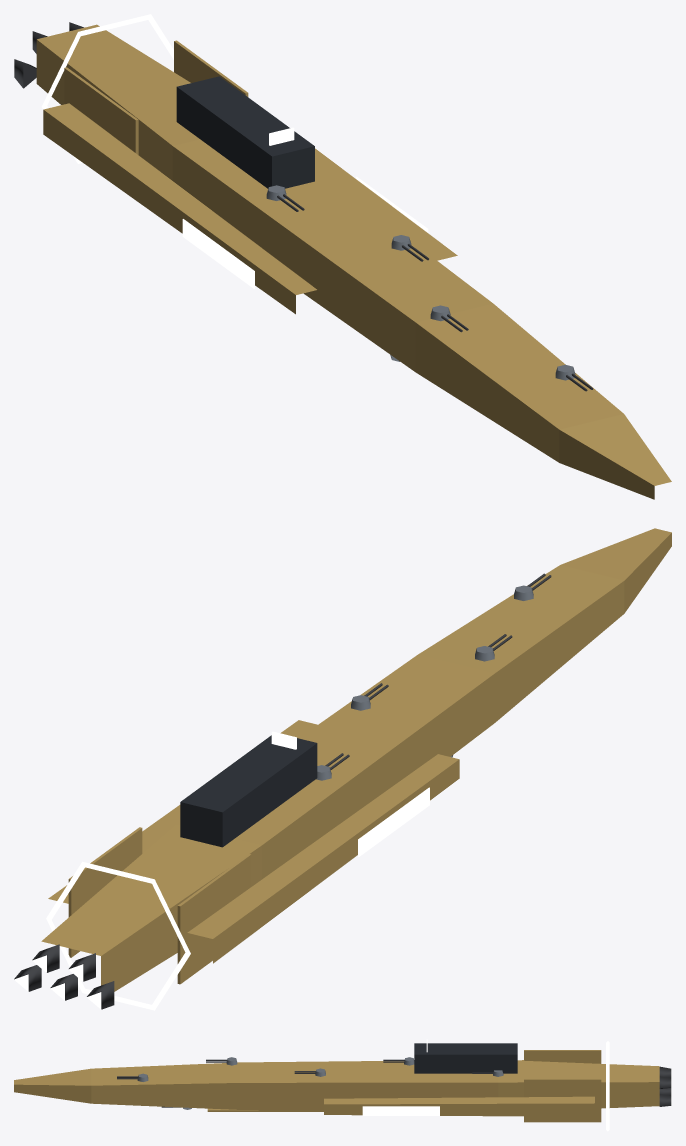
File: space_ship_cruiser_mk7_lod2.glb
3 renders of one model, top to bottom at view 1: azimuth 30°, elevation 25°; view 2: azimuth 150°, elevation 25°; view 3: azimuth 270°, elevation 25°, orthographic. The views are drawn at different scales.
Parts seen in each view (by area): view 1: body, hangar_r; view 2: body, hangar_r; view 3: body, hangar_l, turret_6, turret_0, turret_2.
Part boxes in pixels (x1,y1,x2,y2): body: [36, 14, 671, 499]; hangar_r: [182, 219, 254, 288]; body: [41, 528, 671, 1010]; hangar_r: [358, 787, 429, 856]; body: [14, 1039, 659, 1131]; hangar_l: [362, 1106, 439, 1115]; turret_6: [383, 1057, 414, 1065]; turret_0: [117, 1073, 148, 1081]; turret_2: [206, 1057, 237, 1065].
Bounding box in the file's own units: 18.56 × 14.93 × 112.
